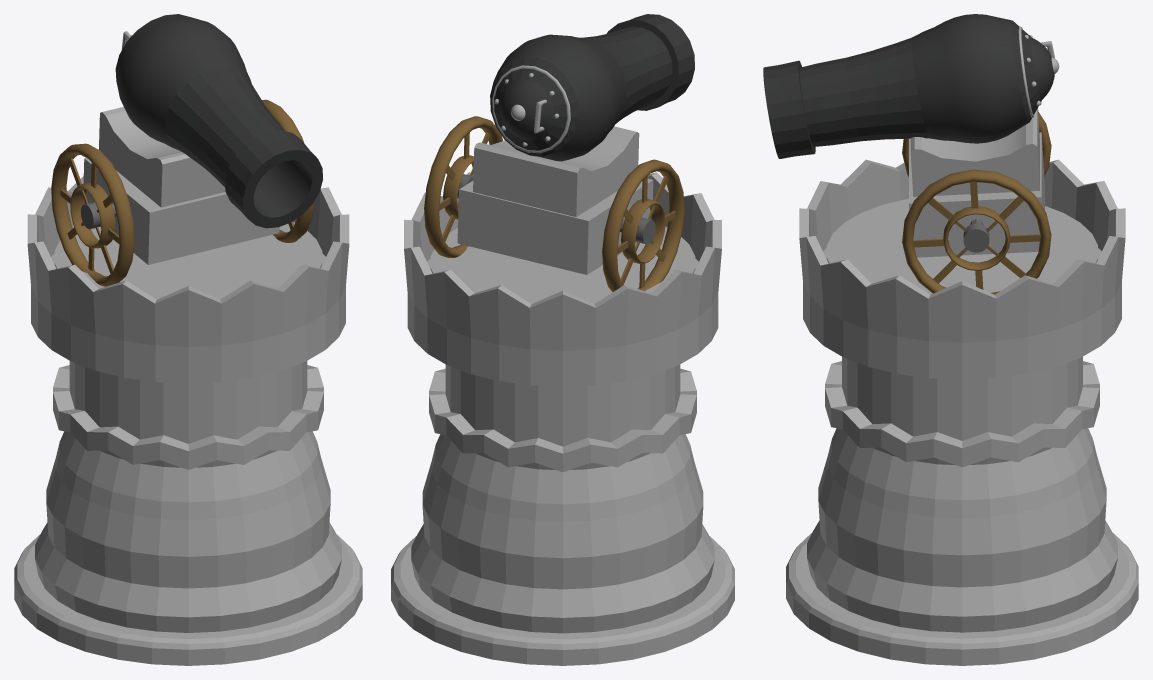
The model's file is Cannon_Z.fbx.
The picture shows the model from 3 angles, left to right: view 1: azimuth 30°, elevation 25°; view 2: azimuth 150°, elevation 25°; view 3: azimuth 270°, elevation 25°; orthographic projection. The views are drawn at different scales.
Parts seen in each view (by area): view 1: pCylinder4, pCube56, pCylinder5; view 2: pCylinder4, pCube56, pCylinder5; view 3: pCylinder4, pCube56, pCylinder5.
Part boxes in pixels (x1=…): pCylinder4: x1=14, y1=176, x2=362, y2=665; pCube56: x1=51, y1=14, x2=322, y2=286; pCylinder5: x1=54, y1=222, x2=322, y2=299; pCylinder4: x1=391, y1=172, x2=734, y2=665; pCube56: x1=424, y1=14, x2=694, y2=292; pCylinder5: x1=430, y1=226, x2=695, y2=303; pCylinder4: x1=786, y1=159, x2=1138, y2=665; pCube56: x1=763, y1=14, x2=1059, y2=294; pCylinder5: x1=826, y1=198, x2=1097, y2=294.
Size of the model in its own units: 3.54 by 6.29 by 3.75.
